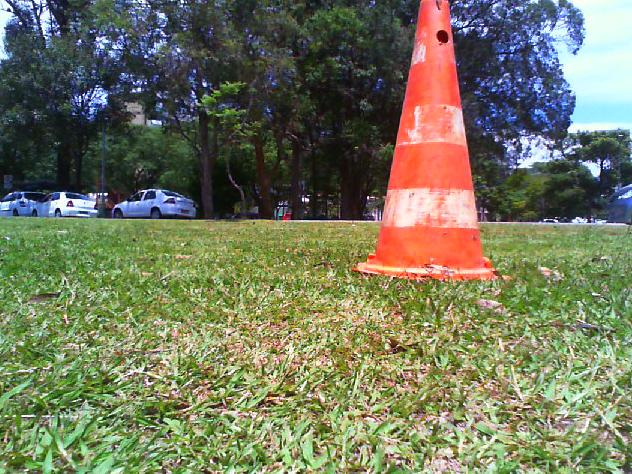0 cone: (356, 0, 499, 282)
